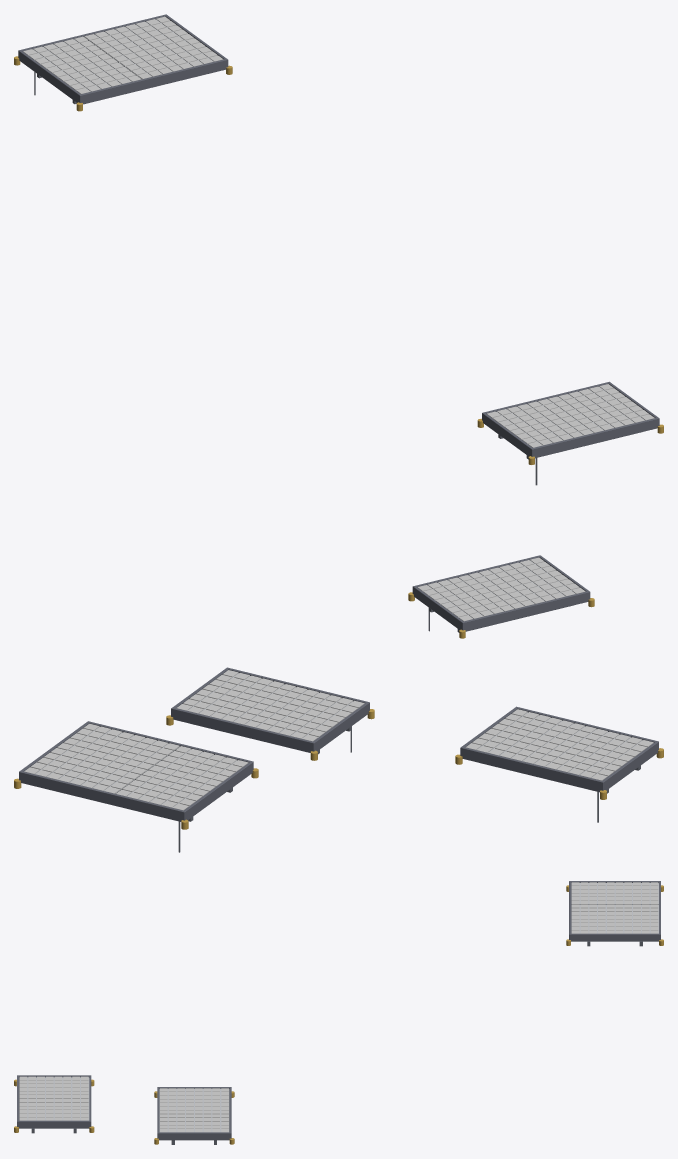
The picture shows the model from 3 angles, top to bottom: view 1: azimuth 30°, elevation 25°; view 2: azimuth 150°, elevation 25°; view 3: azimuth 270°, elevation 25°; orthographic projection. The views are drawn at different scales.
Visible parts, largest first — view 1: p0_m2; view 2: p0_m2; view 3: p0_m2.
Boxes of the visible parts, box(x1,y1,x2,y2) form: p0_m2: box(14, 14, 663, 638); p0_m2: box(14, 667, 663, 852); p0_m2: box(14, 881, 663, 1144).
Size of the model in its own units: 15.07 by 14 by 37.08.
